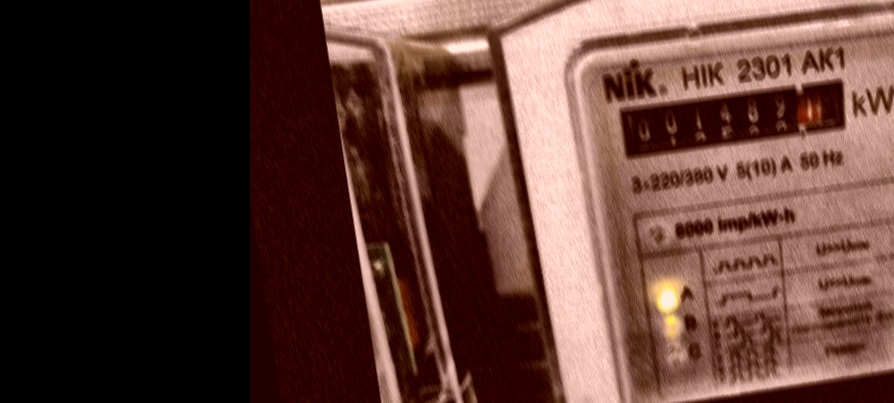0: (658, 106, 677, 133), (632, 114, 650, 141)
1: (686, 101, 705, 132), (798, 90, 814, 122)
4: (713, 98, 733, 126)
8: (739, 94, 760, 123)
9: (768, 92, 786, 118)
screen: (600, 63, 865, 176)
